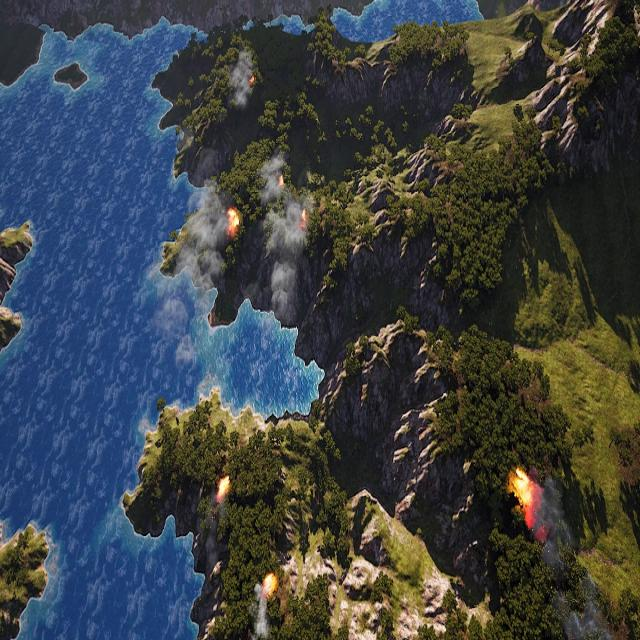fire: (511, 469, 536, 524), (263, 574, 278, 599), (228, 207, 241, 234), (216, 477, 230, 500), (297, 208, 306, 229), (279, 174, 285, 187), (250, 76, 254, 86)
smoke: (529, 480, 611, 640), (260, 148, 310, 326), (182, 185, 230, 284), (230, 591, 276, 640), (229, 54, 254, 110)
